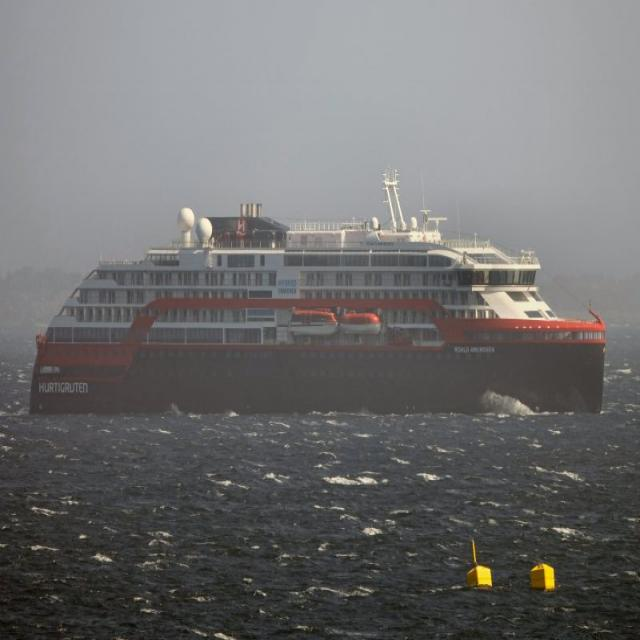cruises: (27, 159, 609, 418)
